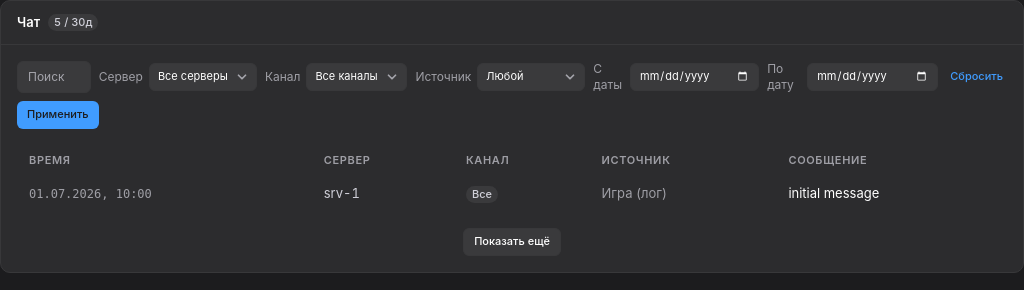
Test: ChatHistorySection — race between loadMore() and a filter-driven load() (#433) › ignores a stale loadMore() response that resolves after a newer filter load()
This screenshot has width=1024, height=290.
Expected: the text "initial message" is shown, [788,185,879,201]
Click the button "Показать ещё".
click(512, 242)  # box [463,228,561,256]
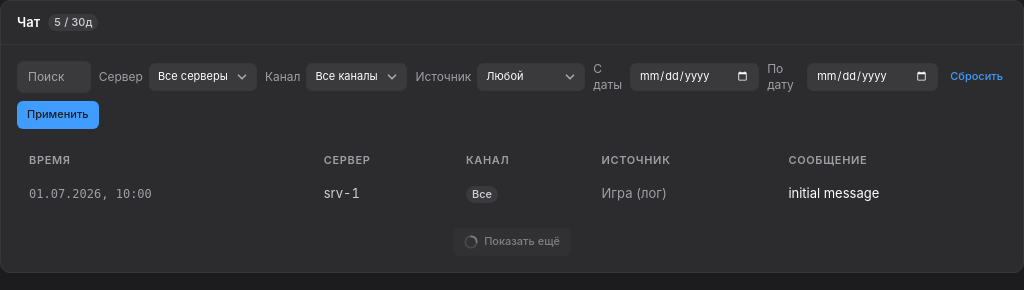
Click the button "Применить".
click(58, 115)  # box [17,101,99,129]
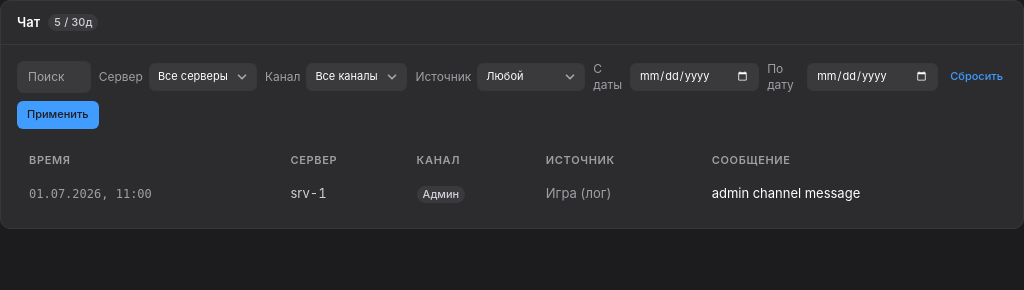
Result: the text "initial message" is gone
Result: the text "admin channel message" is shown at [712,185,860,201]
